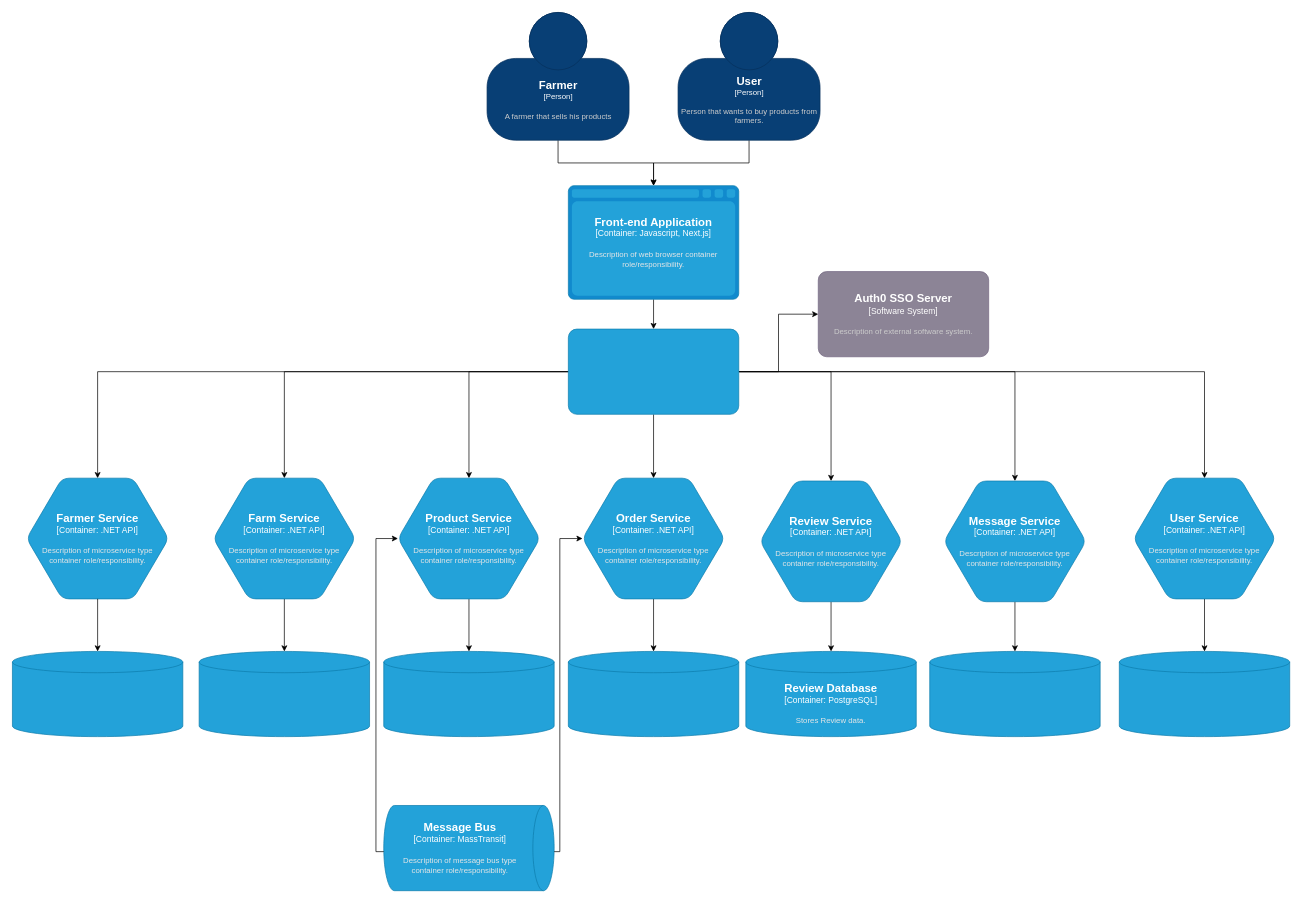
Image size: 1302x903. Some labels were removed from this diagram. Here are the shapes that lost their labels. From the top down, the box of each, then its label:
(568, 328, 739, 414): API Gateway [container: Kong] Description of container role/responsibility.
(12, 651, 183, 737): Farmer Database [Container: PostgreSQL] Stores Farmer data.
(198, 651, 370, 737): Farm Database [Container: PostgreSQL] Stores Farm data.
(383, 651, 554, 737): Product Database [Container: PostgreSQL] Stores Product data.
(568, 651, 739, 737): Order Database [Container: PostgreSQL] Stores Order data.
(929, 651, 1100, 737): Message Database [Container: PostgreSQL] Stores Message data.
(1119, 651, 1290, 737): User Database [Container: PostgreSQL] Stores User data.
